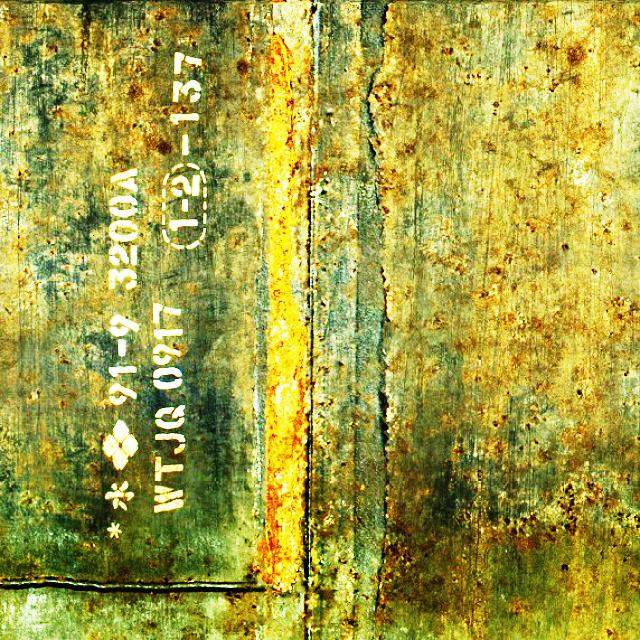Corrosion: (263, 27, 307, 588)
